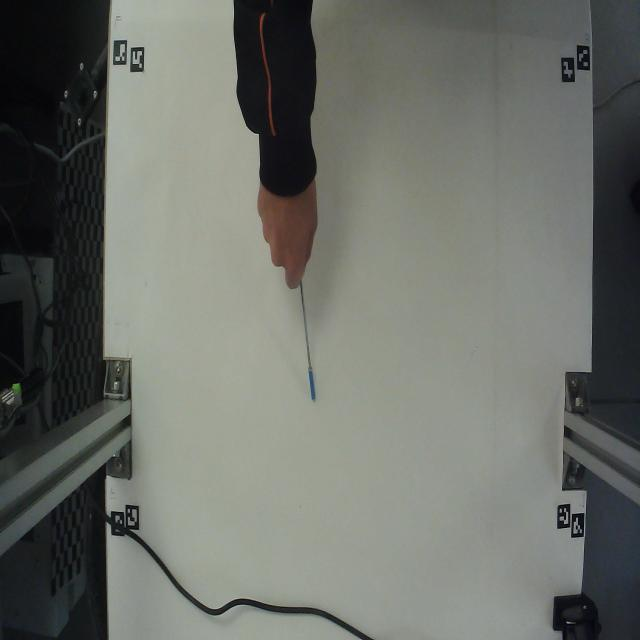Pres: (278, 281, 323, 417)
